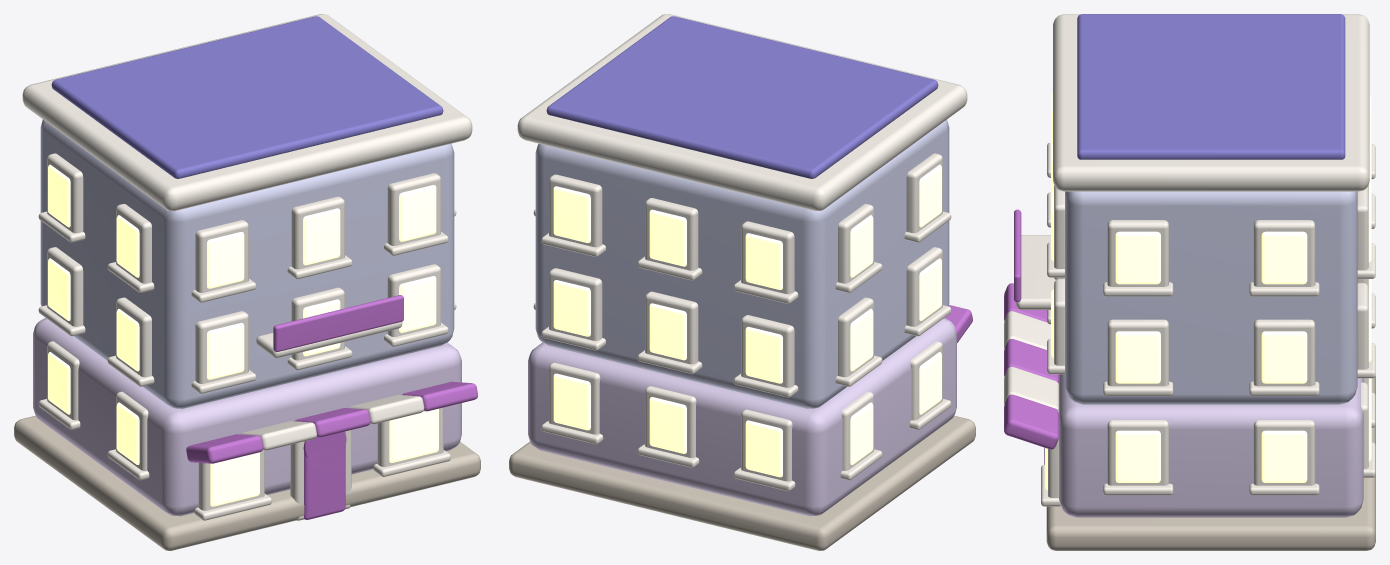
3 renders of one model, left to right at view 1: azimuth 30°, elevation 25°; view 2: azimuth 150°, elevation 25°; view 3: azimuth 270°, elevation 25°, orthographic. The views are drawn at different scales.
Visible parts, largest first — view 1: Cube; view 2: Cube; view 3: Cube.
Boxes of the visible parts, x1,y1,x2,y2 form: Cube: [14, 14, 480, 550]; Cube: [509, 14, 975, 550]; Cube: [1004, 14, 1375, 550].
Bounding box in the file's own units: 0.64 × 0.7055 × 0.61.
